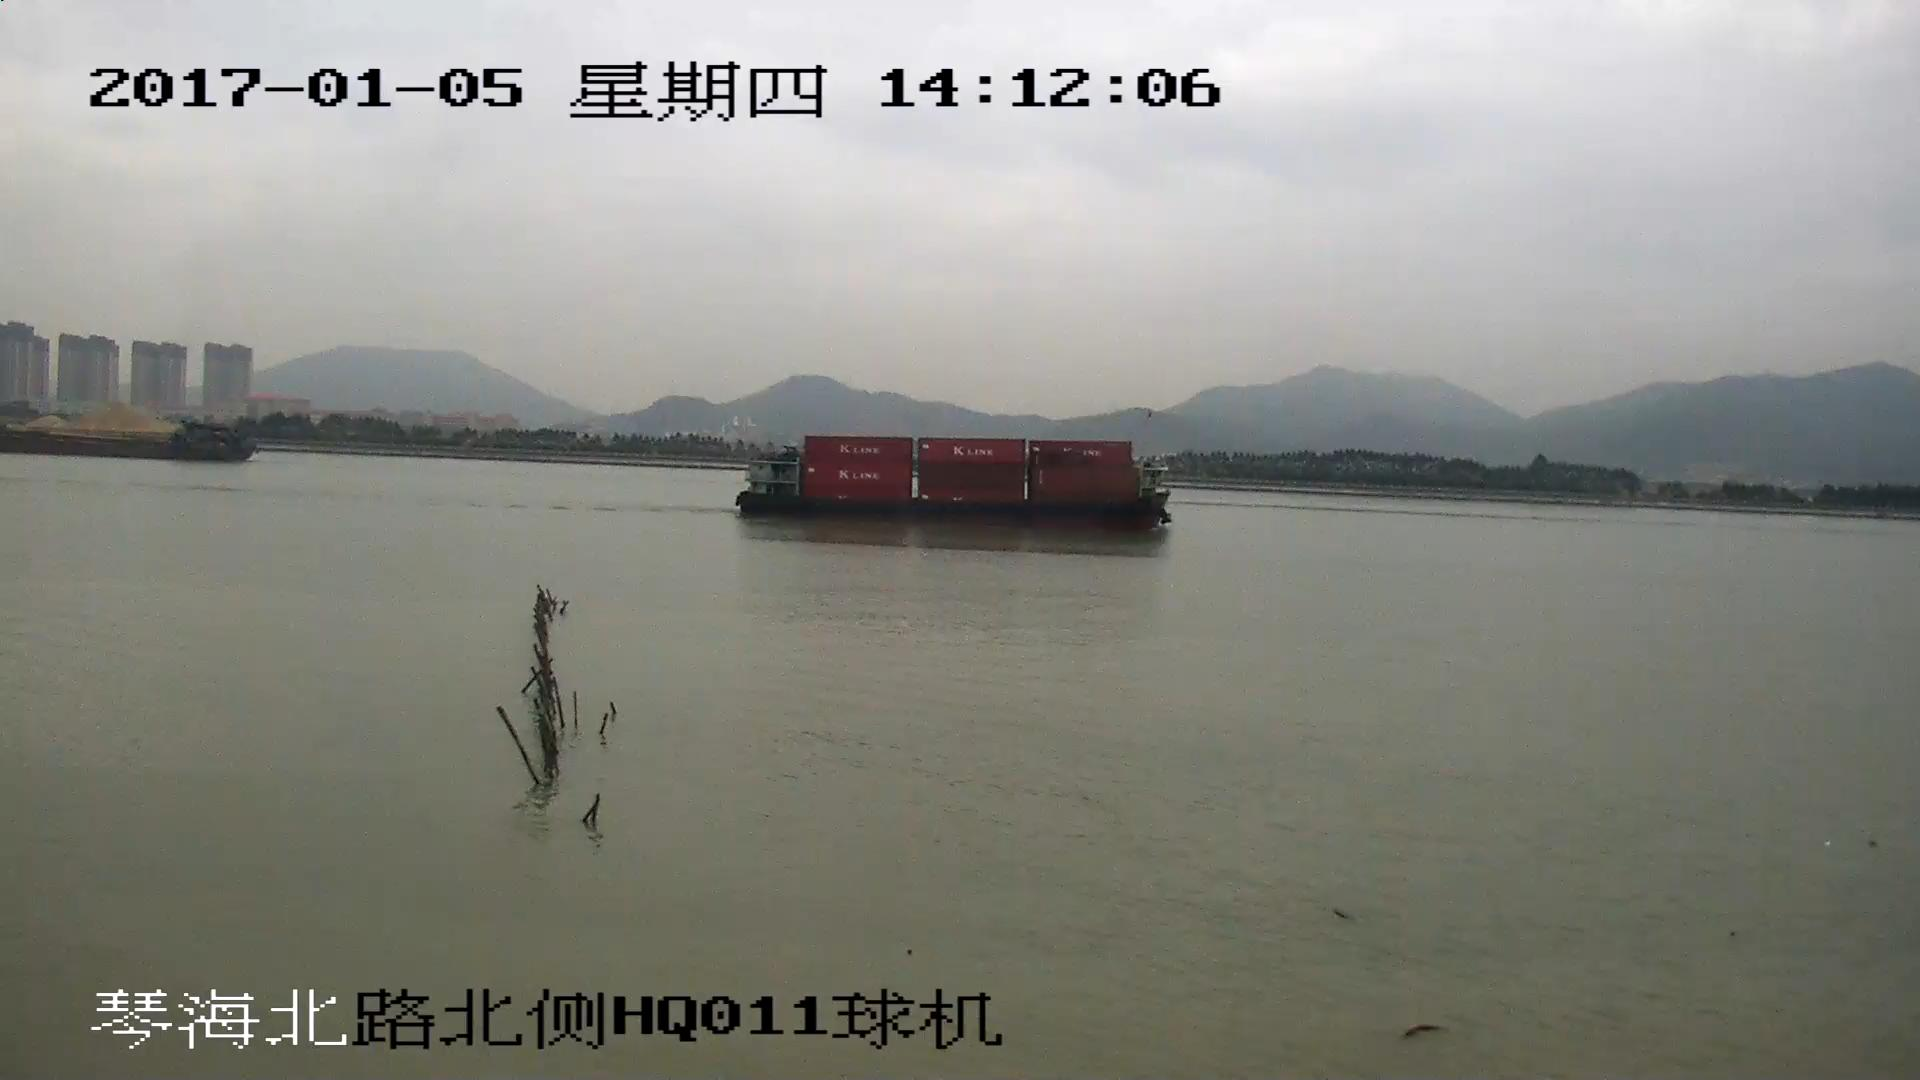bulk cargo carrier: (1, 426, 254, 461)
container ship: (735, 436, 1167, 531)
